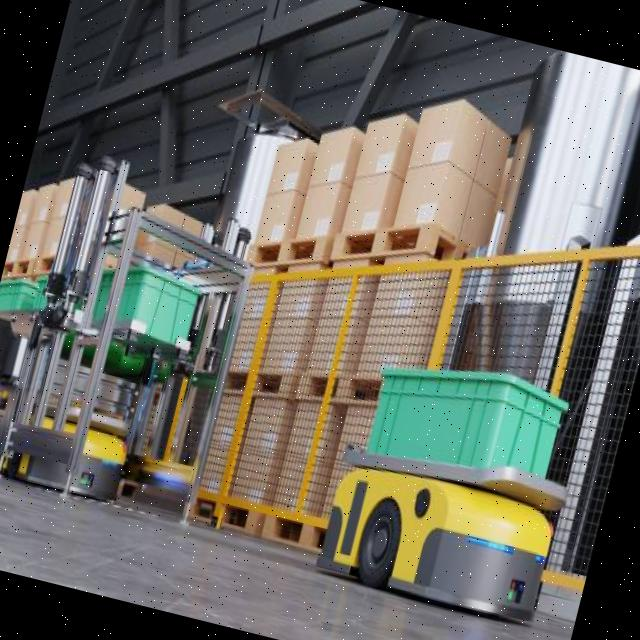Wooden-Pallets: (234, 231, 327, 276), (327, 222, 433, 260)
